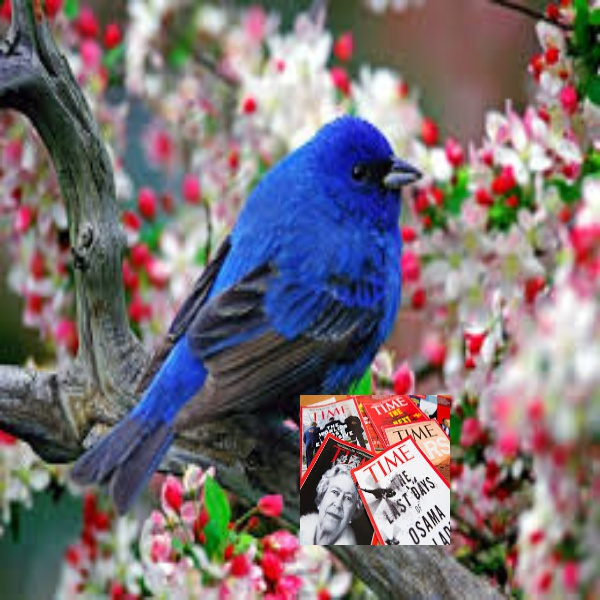time_cover: (297, 386, 454, 546)
